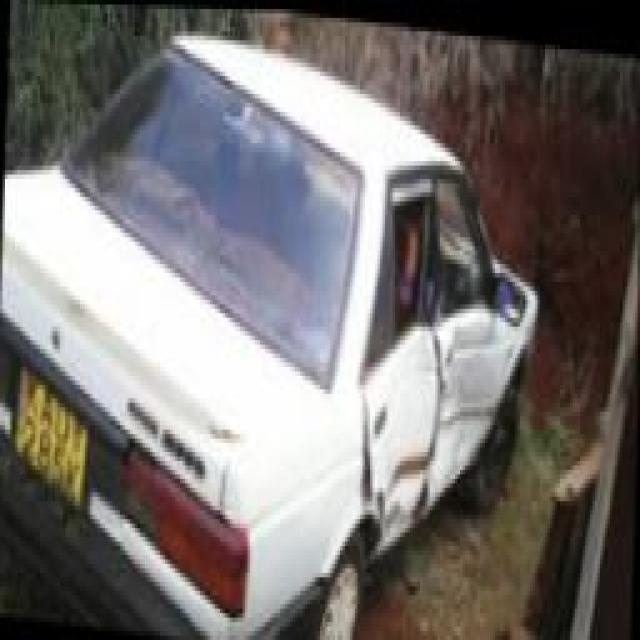Dickey: (190, 389, 250, 517)
Door: (368, 183, 439, 512), (425, 170, 498, 477)
